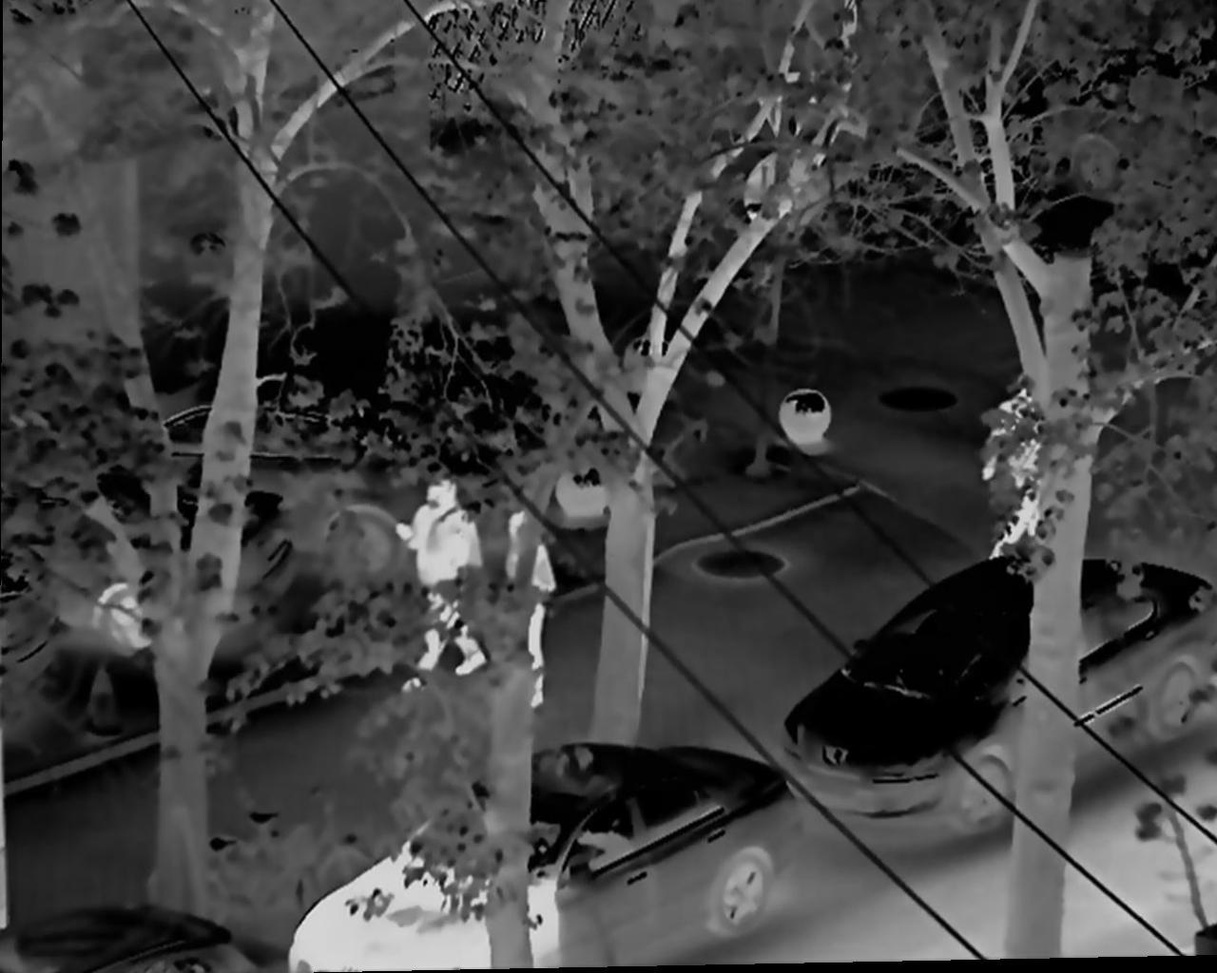person: (391, 477, 494, 677), (979, 377, 1062, 561), (497, 508, 560, 715)
